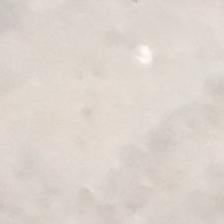Non_Crack: (14, 37, 213, 214)
